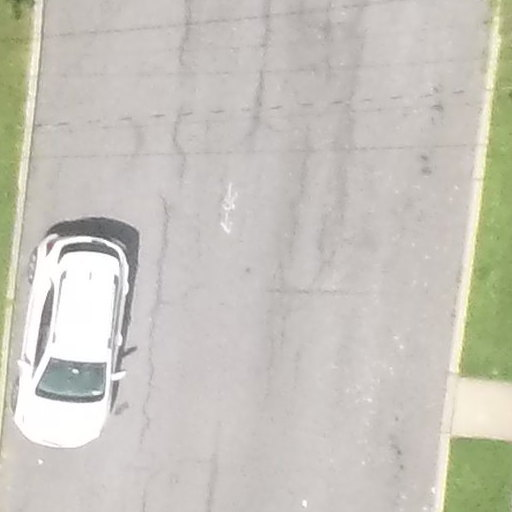car: (1, 206, 140, 464)
